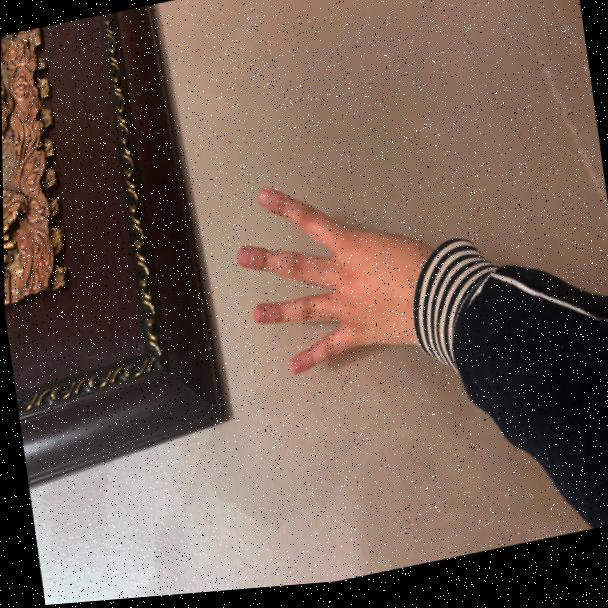four: (217, 152, 461, 410)
